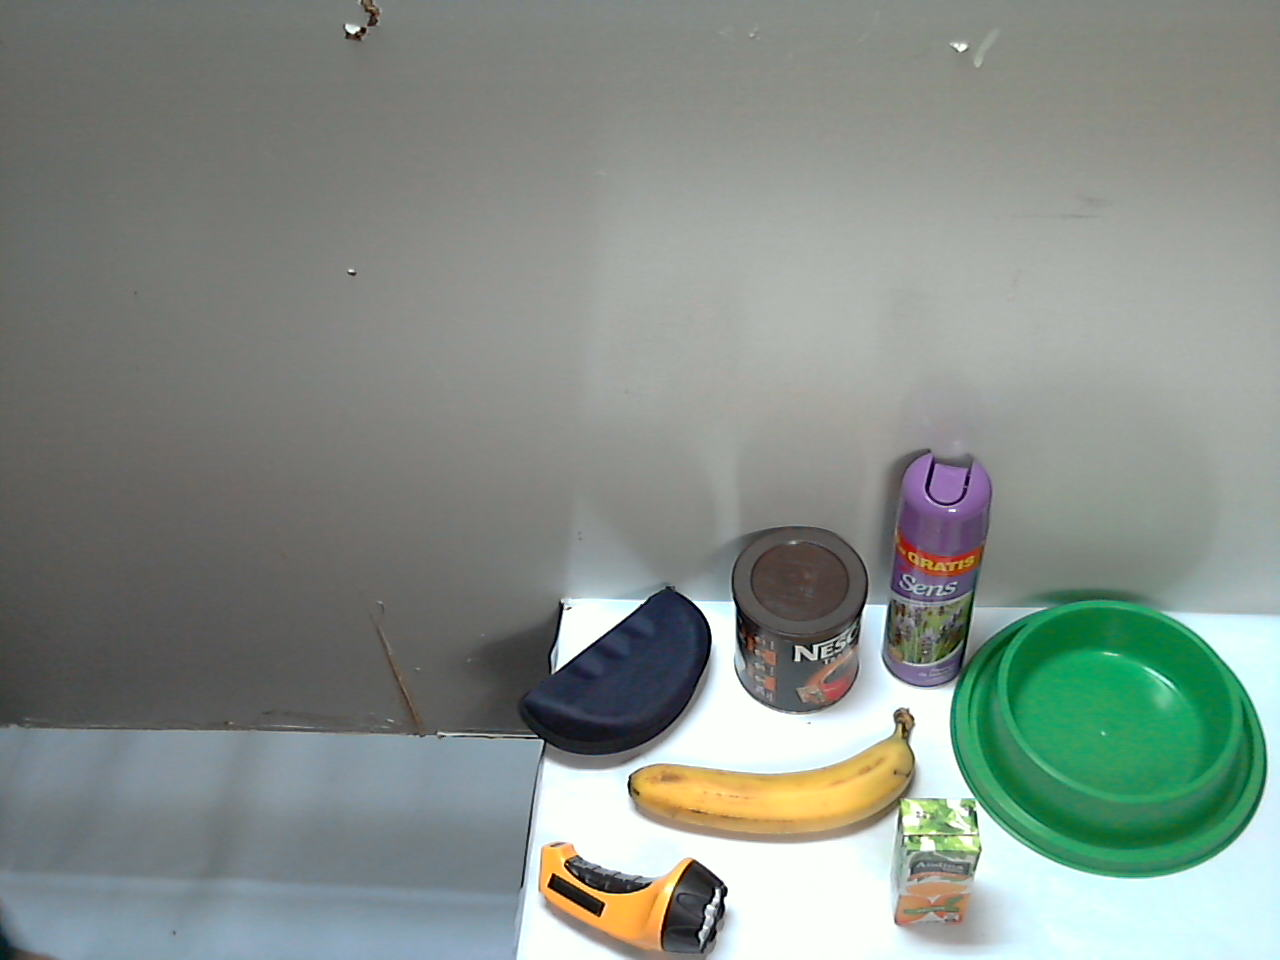cera: (751, 435, 907, 736)
limon: (959, 822, 1116, 960)
mantequilla: (894, 692, 1039, 798)
pescado: (753, 753, 920, 960)
platoperro: (480, 655, 774, 927)
yogurt: (1045, 507, 1229, 800)
